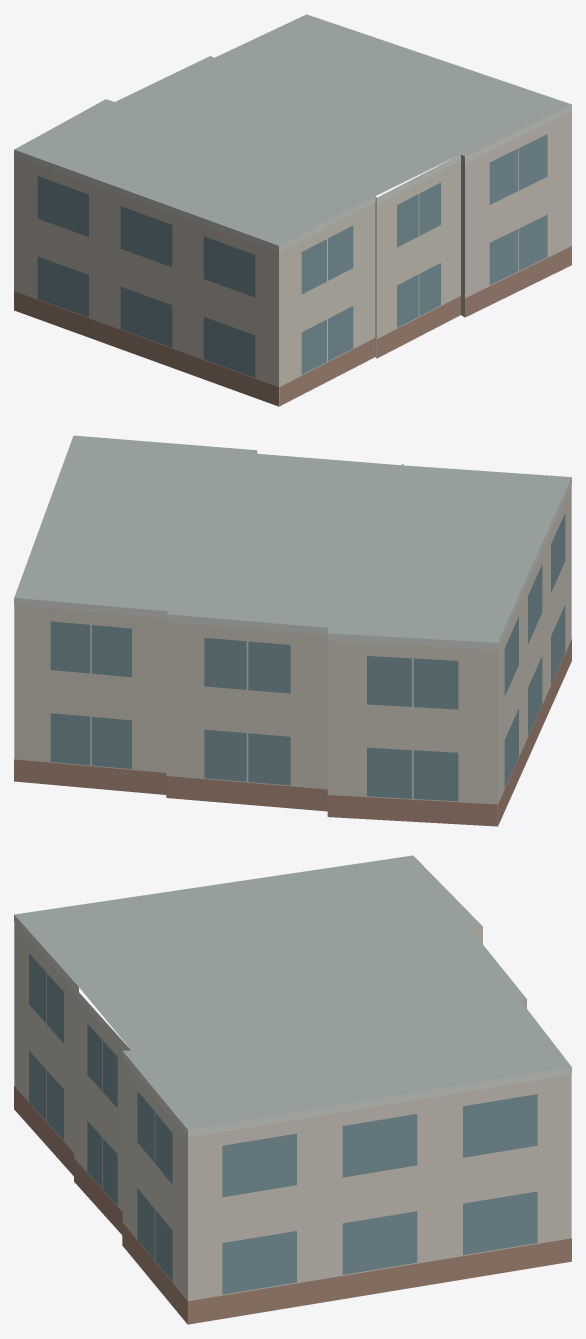
The model's file is survey-upis-32905509.glb.
3 views of the same model, one above another, from view 1: azimuth 30°, elevation 25°; view 2: azimuth 150°, elevation 25°; view 3: azimuth 270°, elevation 25° (orthographic). The views are drawn at different scales.
Visible parts, largest first — view 1: survey-upis-32905509.tmp; view 2: survey-upis-32905509.tmp; view 3: survey-upis-32905509.tmp.
Boxes of the visible parts, box(x1,y1,x2,y2) form: survey-upis-32905509.tmp: box(14, 14, 571, 406); survey-upis-32905509.tmp: box(14, 435, 571, 826); survey-upis-32905509.tmp: box(14, 855, 571, 1324).
Size of the model in its own units: 18.46 by 6.1 by 15.85.
